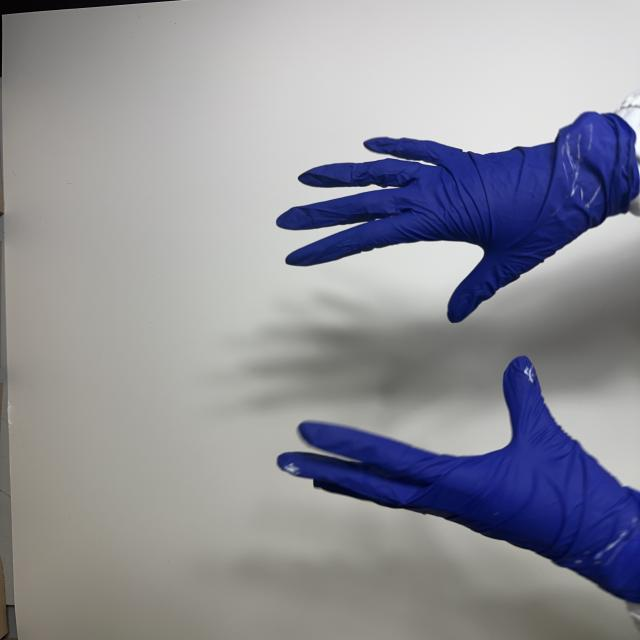gloves_contaminated: (277, 356, 640, 603), (276, 112, 640, 322)
